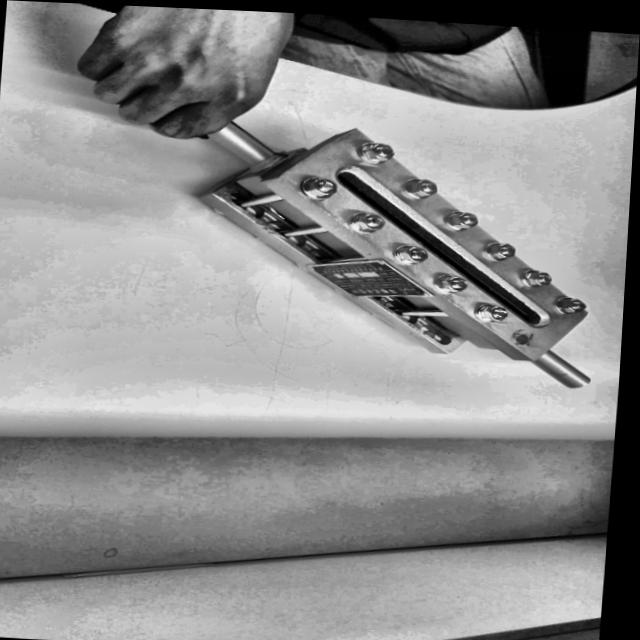ShuiWeiQi_11: (208, 108, 628, 404)
